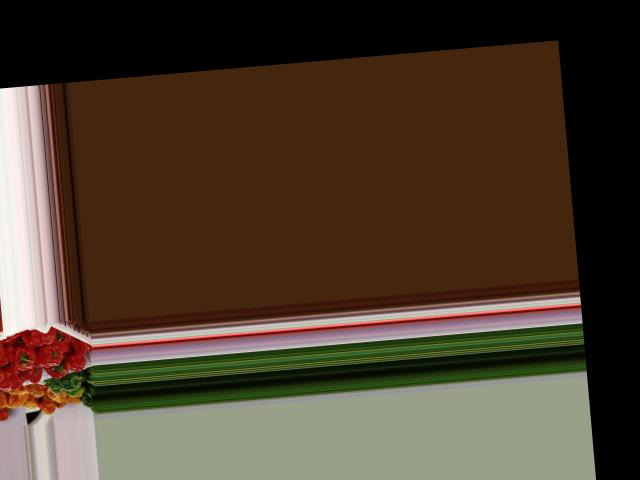bell_pepper: (19, 325, 57, 348)
